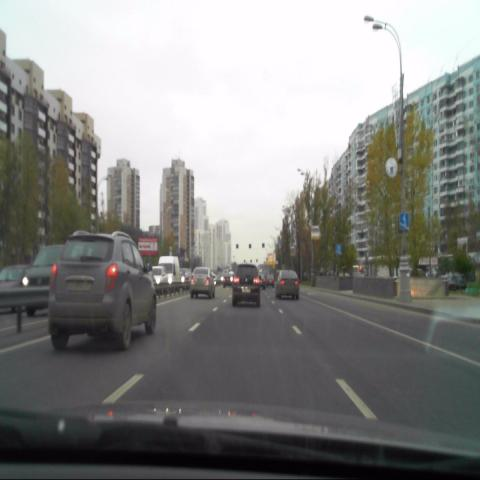6_6: (398, 213, 410, 230)
